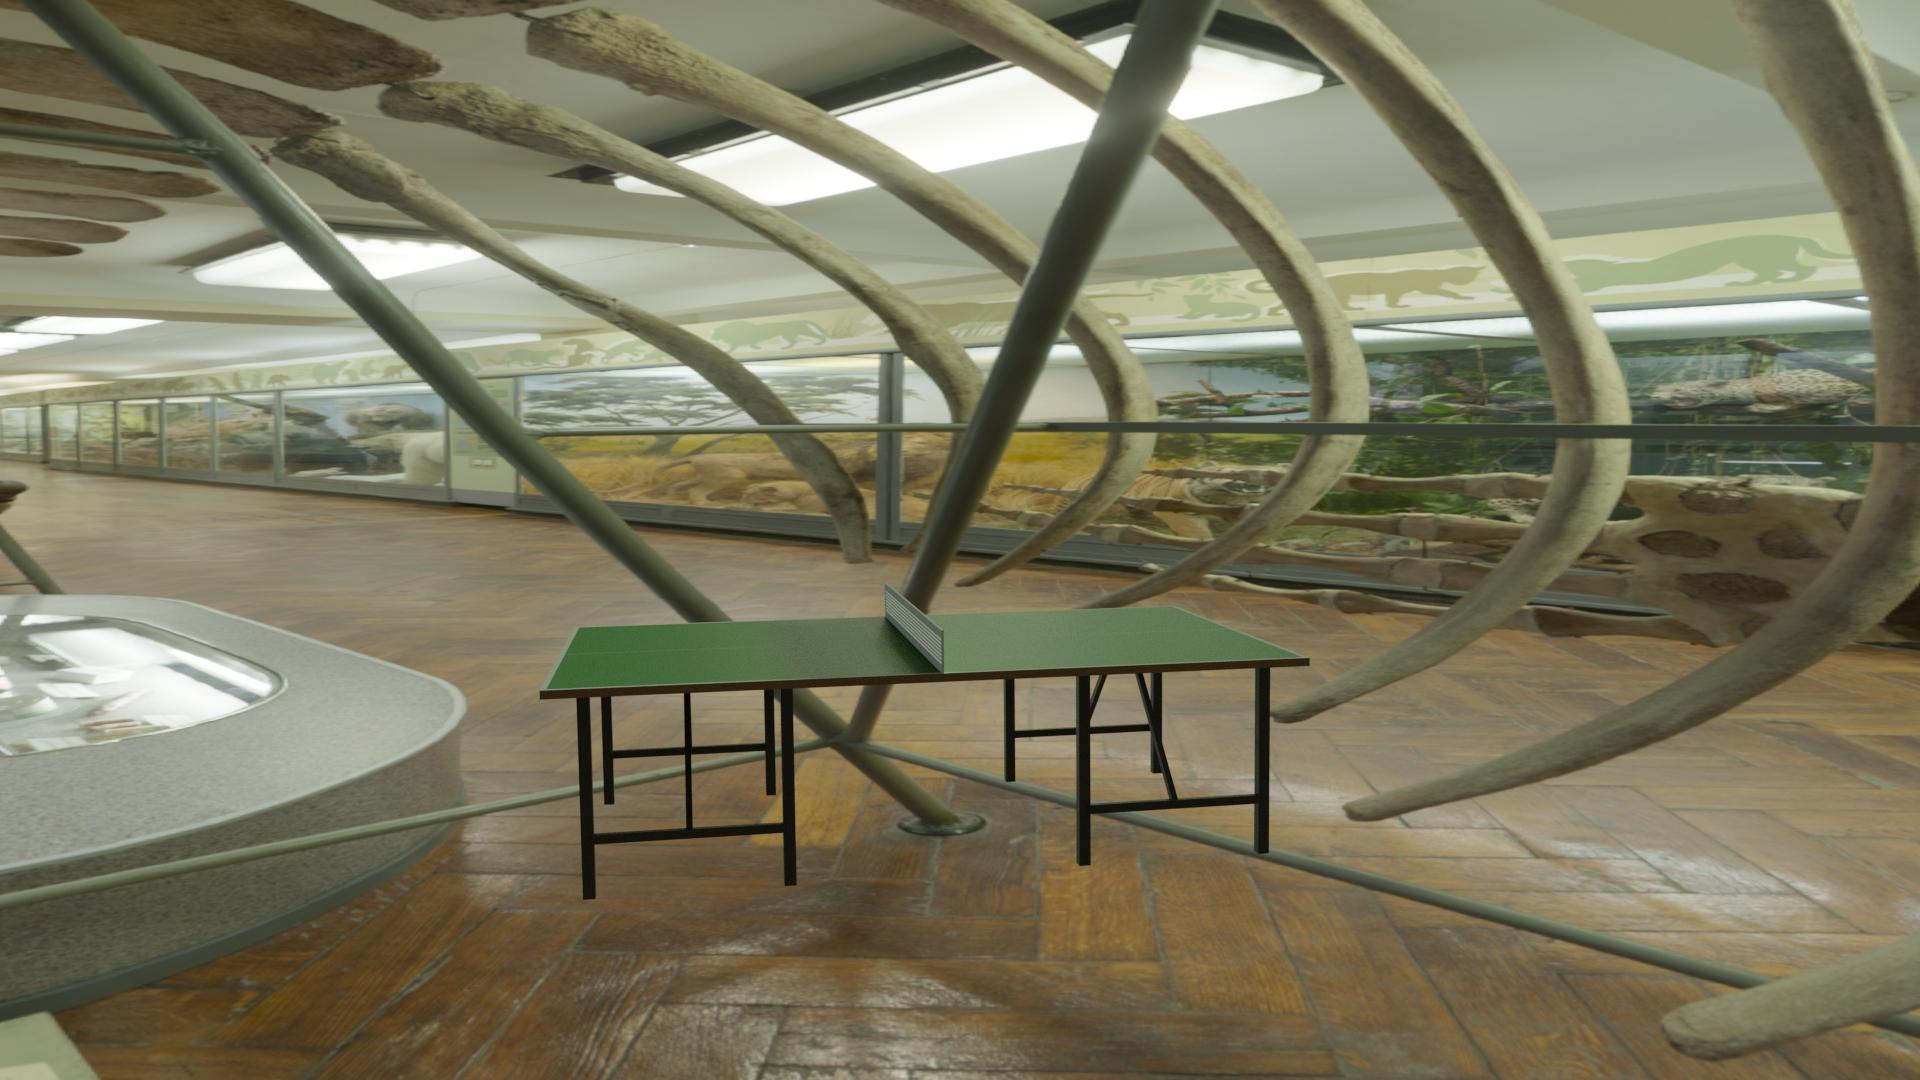table: (546, 607, 1303, 690)
